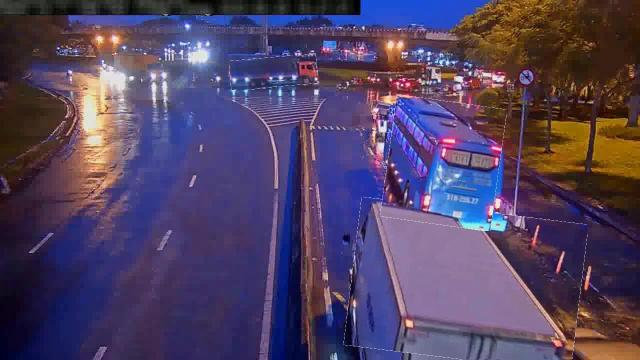Bus: (384, 98, 504, 228)
Car: (374, 103, 396, 132), (371, 102, 393, 116)
Truck: (348, 204, 584, 360), (230, 56, 318, 88)
